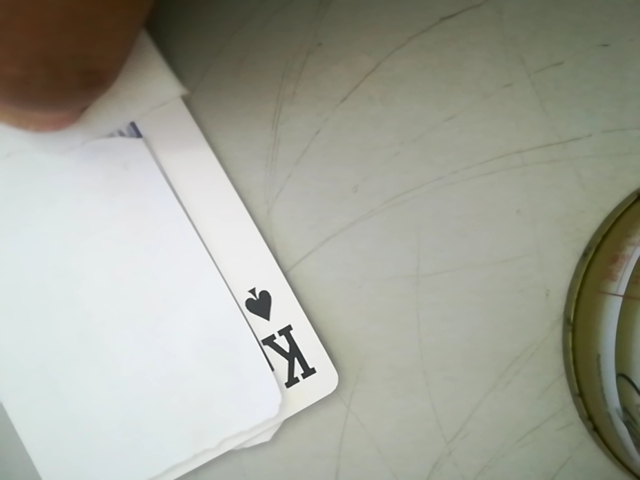ht k: (230, 273, 322, 406)
